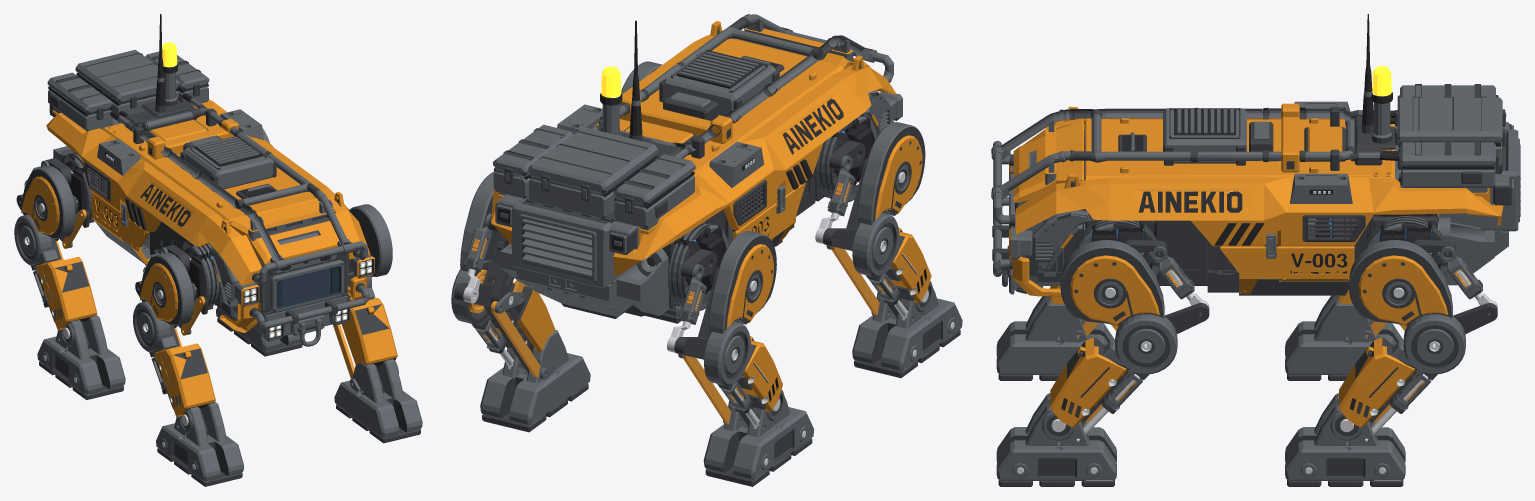
The model's file is ainekio-v3.glb.
The picture shows the model from 3 angles, left to right: view 1: azimuth 30°, elevation 25°; view 2: azimuth 150°, elevation 25°; view 3: azimuth 270°, elevation 25°; orthographic projection. The views are drawn at different scales.
Visible parts, largest first — view 1: geom_V3_RobotRoot_130, geom_V3_RobotRoot_136, geom_V3_RobotRoot_129, geom_V3_FL_Ankle_1, geom_V3_FR_Ankle_31, geom_V3_RR_Ankle_91, geom_V3_RobotRoot_123, geom_V3_FR_Knee_49, geom_V3_RR_Knee_109, geom_V3_FL_Knee_19, geom_V3_RR_Knee_107, geom_V3_FR_Knee_47 (+23 smaller); view 2: geom_V3_RobotRoot_130, geom_V3_RobotRoot_136, geom_V3_RobotRoot_129, geom_V3_RL_Ankle_61, geom_V3_RobotRoot_123, geom_V3_RR_Ankle_91, geom_V3_FR_Ankle_31, geom_V3_FR_Knee_47, geom_V3_RR_Knee_107, geom_V3_RR_Carrier_98, geom_V3_FR_Carrier_38, geom_V3_FR_Carrier_41 (+30 smaller); view 3: geom_V3_RobotRoot_136, geom_V3_RobotRoot_130, geom_V3_RobotRoot_129, geom_V3_RobotRoot_123, geom_V3_FL_Ankle_1, geom_V3_RL_Ankle_61, geom_V3_RR_Ankle_91, geom_V3_FR_Ankle_31, geom_V3_FL_Carrier_11, geom_V3_RL_Carrier_71, geom_V3_FL_Knee_17, geom_V3_RL_Knee_77 (+20 smaller).
Part boxes in pixels (left/top/right/bottom): geom_V3_RobotRoot_130: left=47, top=49, right=372, bottom=346; geom_V3_RobotRoot_136: left=46, top=99, right=374, bottom=332; geom_V3_RobotRoot_129: left=50, top=53, right=374, bottom=340; geom_V3_FL_Ankle_1: left=334, top=359, right=422, bottom=437; geom_V3_FR_Ankle_31: left=156, top=402, right=243, bottom=481; geom_V3_RR_Ankle_91: left=37, top=315, right=125, bottom=394; geom_V3_RobotRoot_123: left=48, top=14, right=275, bottom=230; geom_V3_FR_Knee_49: left=154, top=343, right=215, bottom=416; geom_V3_RR_Knee_109: left=36, top=256, right=97, bottom=329; geom_V3_FL_Knee_19: left=341, top=298, right=397, bottom=367; geom_V3_RR_Knee_107: left=14, top=214, right=58, bottom=303; geom_V3_FR_Knee_47: left=133, top=301, right=176, bottom=390; geom_V3_RobotRoot_130: left=493, top=14, right=902, bottom=316; geom_V3_RobotRoot_136: left=491, top=21, right=896, bottom=275; geom_V3_RobotRoot_129: left=495, top=16, right=889, bottom=318; geom_V3_RL_Ankle_61: left=480, top=329, right=590, bottom=425; geom_V3_RobotRoot_123: left=494, top=20, right=843, bottom=279; geom_V3_RR_Ankle_91: left=703, top=382, right=814, bottom=480; geom_V3_FR_Ankle_31: left=852, top=273, right=962, bottom=371; geom_V3_FR_Knee_47: left=852, top=213, right=903, bottom=302; geom_V3_RR_Knee_107: left=704, top=321, right=754, bottom=411; geom_V3_RR_Carrier_98: left=708, top=231, right=771, bottom=333; geom_V3_FR_Carrier_38: left=857, top=122, right=920, bottom=225; geom_V3_FR_Carrier_41: left=875, top=135, right=922, bottom=219; geom_V3_RobotRoot_136: left=1009, top=103, right=1503, bottom=296; geom_V3_RobotRoot_130: left=991, top=85, right=1520, bottom=295; geom_V3_RobotRoot_129: left=992, top=84, right=1520, bottom=295; geom_V3_RobotRoot_123: left=1122, top=14, right=1500, bottom=274; geom_V3_FL_Ankle_1: left=996, top=393, right=1116, bottom=480; geom_V3_RL_Ankle_61: left=1285, top=393, right=1405, bottom=480; geom_V3_RR_Ankle_91: left=1285, top=295, right=1403, bottom=374; geom_V3_FR_Ankle_31: left=996, top=288, right=1114, bottom=374; geom_V3_FL_Carrier_11: left=1070, top=255, right=1159, bottom=325; geom_V3_RL_Carrier_71: left=1358, top=255, right=1448, bottom=325; geom_V3_FL_Knee_17: left=1103, top=313, right=1177, bottom=410; geom_V3_RL_Knee_77: left=1392, top=313, right=1465, bottom=410.
Size of the model in its own units: 0.2365 by 0.3431 by 0.4028.
